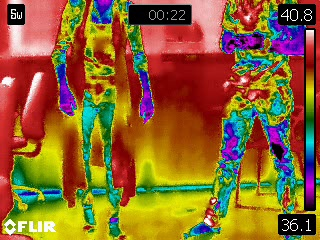human: (184, 1, 305, 239), (52, 1, 155, 239)
